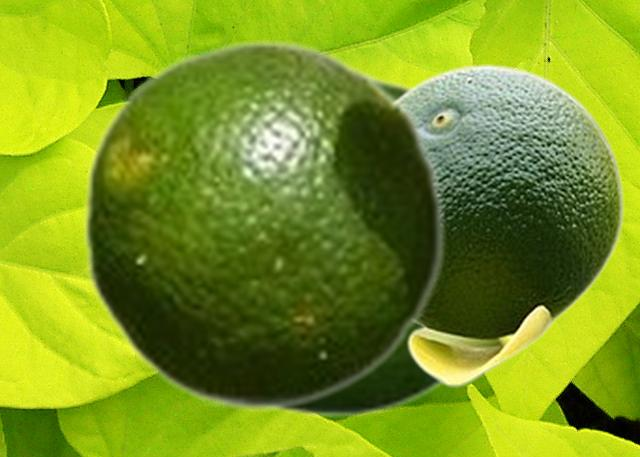calamansi: (80, 38, 447, 410), (399, 64, 623, 386), (256, 73, 449, 418)
